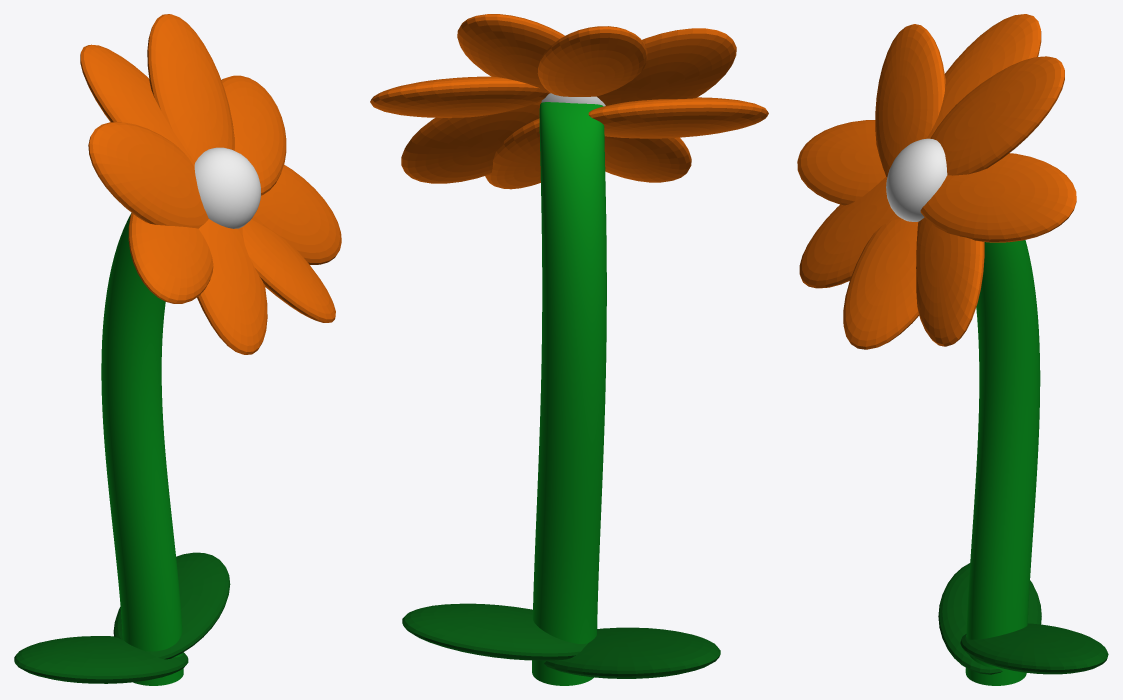
Rendered from flower.fbx.
3 views of the same model, side by side, from view 1: azimuth 30°, elevation 25°; view 2: azimuth 150°, elevation 25°; view 3: azimuth 270°, elevation 25° (orthographic). The views are drawn at different scales.
Parts seen in each view (by area): view 1: NurbsPath, Sphere.005, Sphere.003, Sphere.006, Sphere, Sphere.007, Sphere.008, Sphere.004, Sphere.009, Sphere.010, Sphere.001, Sphere.002; view 2: NurbsPath, Sphere.001, Sphere.008, Sphere, Sphere.005, Sphere.004, Sphere.007, Sphere.010, Sphere.003, Sphere.006, Sphere.009; view 3: NurbsPath, Sphere.010, Sphere.003, Sphere.009, Sphere.005, Sphere.008, Sphere.007, Sphere.006, Sphere.001, Sphere.004, Sphere.002, Sphere.
Part boxes in pixels (left/top/right/bottom): NurbsPath: left=101, top=213, right=183, bottom=685; Sphere.005: left=88, top=122, right=208, bottom=228; Sphere.003: left=147, top=14, right=234, bottom=162; Sphere.006: left=197, top=219, right=267, bottom=354; Sphere: left=14, top=636, right=188, bottom=683; Sphere.007: left=128, top=213, right=213, bottom=303; Sphere.008: left=251, top=164, right=341, bottom=264; Sphere.004: left=80, top=44, right=194, bottom=167; Sphere.009: left=242, top=219, right=335, bottom=322; Sphere.010: left=221, top=75, right=286, bottom=195; Sphere.001: left=113, top=552, right=230, bottom=659; Sphere.002: left=194, top=147, right=260, bottom=228; NurbsPath: left=532, top=102, right=606, bottom=685; Sphere.001: left=402, top=603, right=587, bottom=660; Sphere.008: left=401, top=101, right=541, bottom=183; Sphere: left=544, top=627, right=720, bottom=678; Sphere.005: left=597, top=28, right=736, bottom=105; Sphere.004: left=537, top=26, right=647, bottom=96; Sphere.007: left=588, top=97, right=768, bottom=138; Sphere.010: left=370, top=76, right=549, bottom=117; Sphere.003: left=457, top=14, right=564, bottom=93; Sphere.006: left=604, top=136, right=691, bottom=182; Sphere.009: left=485, top=118, right=540, bottom=189; NurbsPath: left=965, top=240, right=1040, bottom=685; Sphere.010: left=920, top=153, right=1076, bottom=242; Sphere.003: left=930, top=56, right=1064, bottom=175; Sphere.009: left=843, top=218, right=919, bottom=349; Sphere.005: left=875, top=24, right=945, bottom=176; Sphere.008: left=916, top=217, right=984, bottom=346; Sphere.007: left=797, top=120, right=885, bottom=205; Sphere.006: left=799, top=177, right=900, bottom=288; Sphere.001: left=960, top=623, right=1108, bottom=674; Sphere.004: left=926, top=14, right=1041, bottom=138; Sphere.002: left=886, top=138, right=947, bottom=221; Sphere: left=938, top=563, right=1041, bottom=674.
Size of the model in its own units: 36.17 by 70.49 by 31.43.
